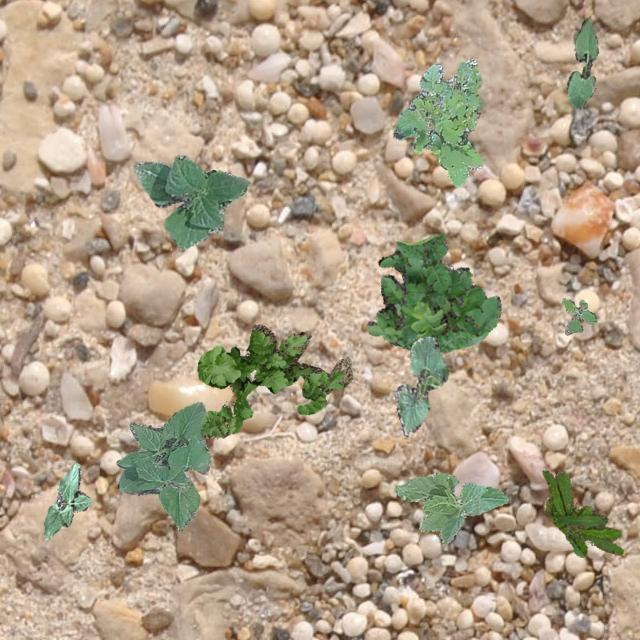crop: (116, 402, 210, 530), (132, 154, 248, 248), (393, 472, 508, 542), (394, 336, 446, 436), (42, 462, 90, 538), (566, 17, 598, 108)
weed: (196, 323, 352, 438), (366, 234, 500, 350), (392, 58, 482, 186), (542, 468, 622, 556), (560, 298, 594, 334)
